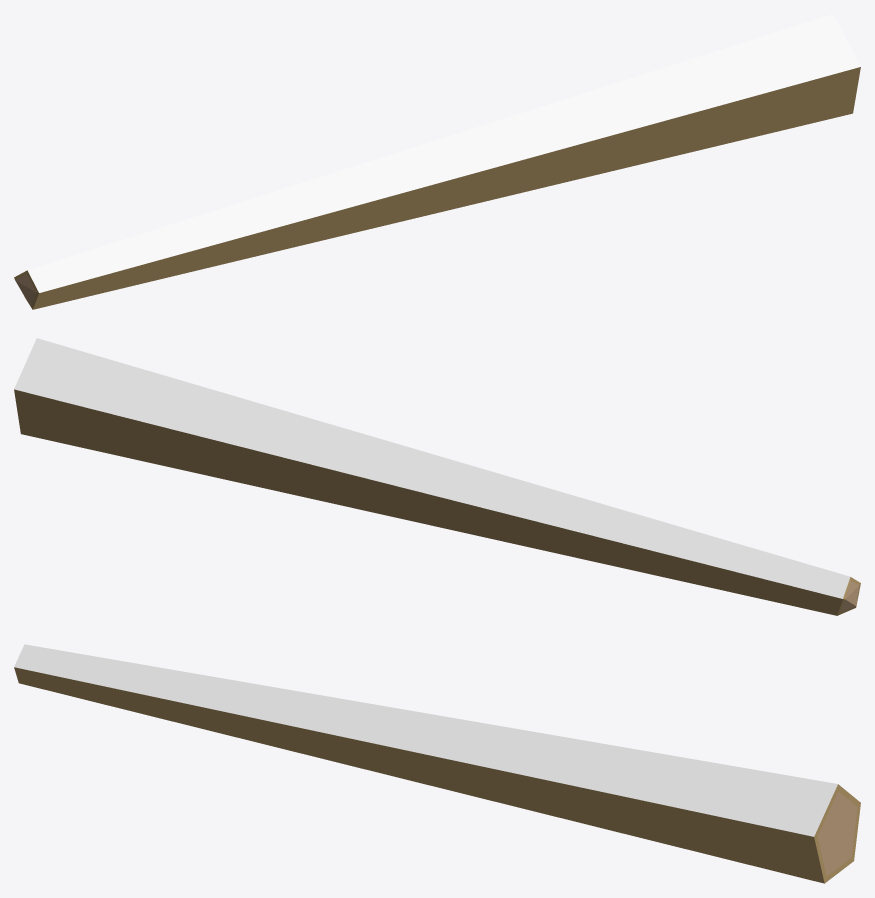
The model's file is Simple_Log_Snow_03_LOD.fbx.
3 renders of one model, top to bottom at view 1: azimuth 30°, elevation 25°; view 2: azimuth 150°, elevation 25°; view 3: azimuth 330°, elevation 25°, orthographic.
Visible parts, largest first — view 1: Simple_Log_Snow_03_LOD0; view 2: Simple_Log_Snow_03_LOD0; view 3: Simple_Log_Snow_03_LOD0.
Boxes of the visible parts, bbox=[...] form: Simple_Log_Snow_03_LOD0: bbox=[14, 14, 860, 309]; Simple_Log_Snow_03_LOD0: bbox=[14, 338, 860, 615]; Simple_Log_Snow_03_LOD0: bbox=[14, 644, 860, 883].
Size of what is drawn, in the model's own units: 277 by 28.36 by 28.56.
